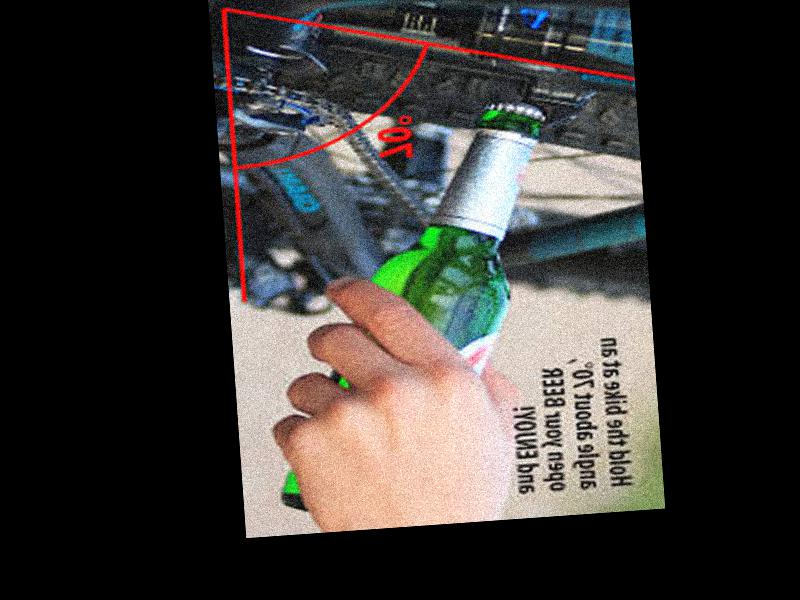Beer: (253, 93, 571, 514)
